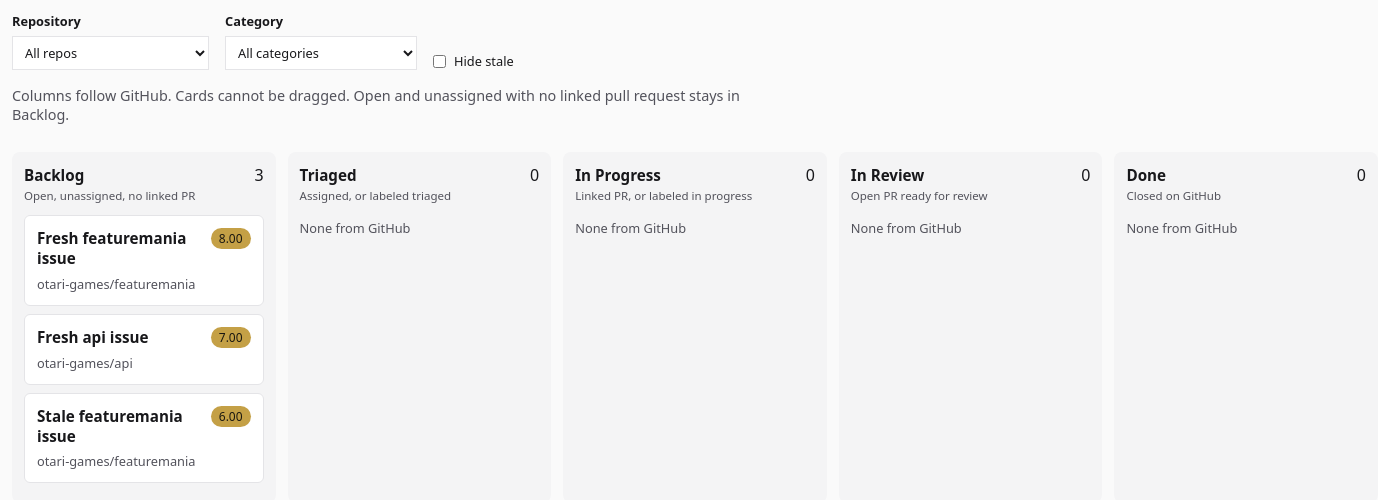
filters by repository and hides stale issues
Step 1. Select "otari-games/featuremania" in the dropdown named "Filter by repository" → (110, 53), box 12,36 -> 209,70
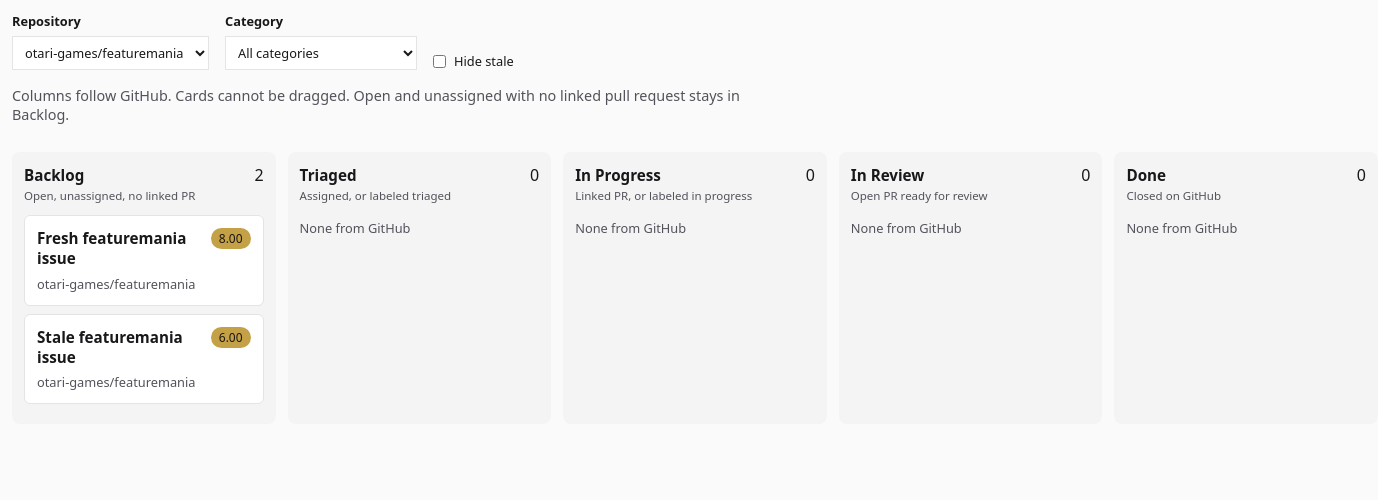
expect the heading "Fresh featuremania issue" is shown: met, box 37,228 -> 202,268
expect the heading "Fresh api issue" is gone: met
Step 2. Click the checkbox labelled "Hide stale" → (440, 61), box 433,55 -> 446,68
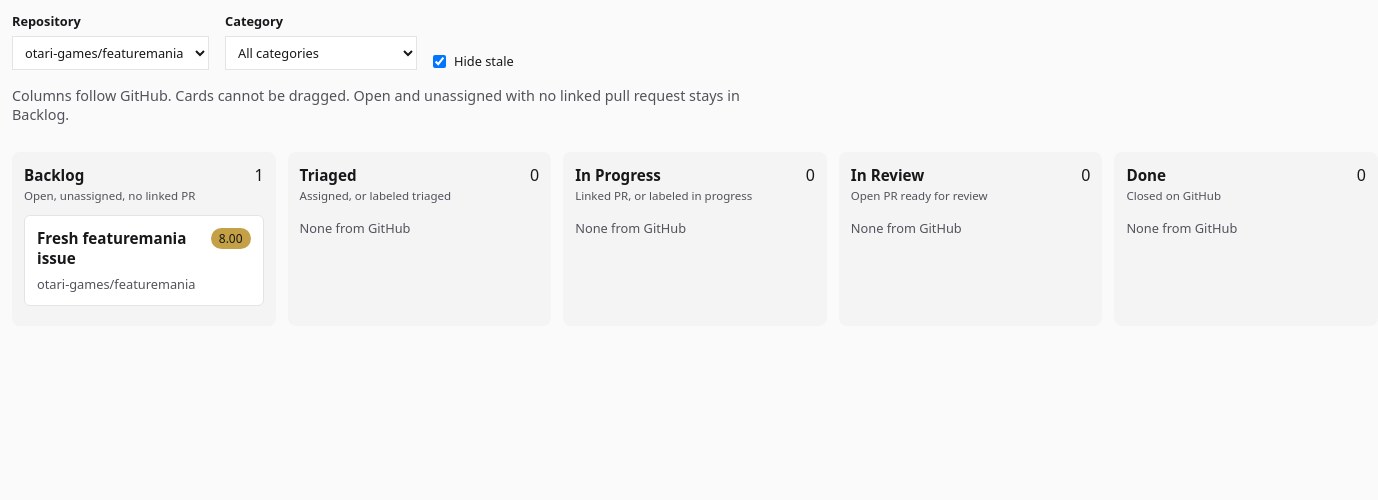
expect the heading "Fresh featuremania issue" is shown: met, box 37,228 -> 202,268
expect the heading "Stale featuremania issue" is gone: met
